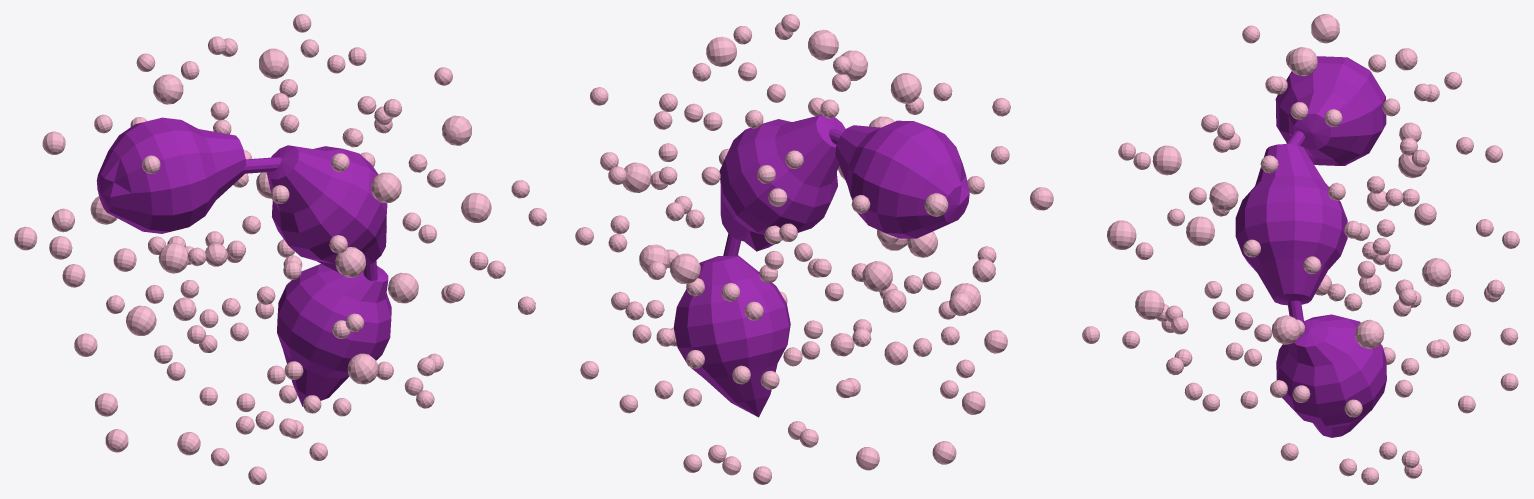
File: model-triangulated.obj
The picture shows the model from 3 angles, left to right: view 1: azimuth 30°, elevation 25°; view 2: azimuth 150°, elevation 25°; view 3: azimuth 270°, elevation 25°; orthographic projection. The views are drawn at different scales.
Parts seen in each view (by area): view 1: group1342573826, group309895919, group1013758366, group1750236143, group1095606899, group761726920, group1134961427, group443465300, group1076835853, group1972625439, group1989945592, group1333205387 (+1 smaller); view 2: group1342573826, group1013758366, group309895919, group1076835853, group1864739159, group733315958, group1989945592, group1575044809, group1972625439, group1333205387, group1628788373, group1095606899; view 3: group1013758366, group309895919, group1342573826, group761726920, group1750236143, group443465300, group1095606899, group1989945592, group1575044809, group1076835853, group1972625439, group1864739159 (+1 smaller).
Boxes of the visible parts, x1,y1,x2,y2 form: group1342573826: [96, 117, 246, 233]; group309895919: [277, 263, 391, 406]; group1013758366: [266, 145, 387, 273]; group1750236143: [347, 353, 378, 384]; group1095606899: [371, 172, 401, 203]; group761726920: [388, 272, 418, 303]; group1134961427: [126, 305, 156, 335]; group443465300: [335, 247, 365, 277]; group1076835853: [153, 74, 183, 104]; group1972625439: [461, 192, 491, 222]; group1989945592: [259, 48, 288, 78]; group1333205387: [158, 242, 188, 273]; group1342573826: [835, 120, 969, 238]; group1013758366: [719, 114, 845, 251]; group309895919: [673, 255, 790, 417]; group1076835853: [890, 73, 921, 103]; group1864739159: [670, 253, 700, 284]; group733315958: [862, 261, 892, 291]; group1989945592: [808, 29, 838, 60]; group1575044809: [706, 36, 736, 66]; group1972625439: [622, 162, 651, 192]; group1333205387: [907, 231, 937, 257]; group1628788373: [639, 244, 669, 273]; group1095606899: [840, 50, 867, 80]; group1013758366: [1235, 144, 1347, 305]; group309895919: [1276, 314, 1386, 437]; group1342573826: [1275, 56, 1386, 165]; group761726920: [1107, 220, 1136, 249]; group1750236143: [1135, 290, 1164, 319]; group443465300: [1186, 216, 1214, 246]; group1095606899: [1152, 145, 1181, 175]; group1989945592: [1288, 47, 1317, 76]; group1575044809: [1209, 182, 1238, 211]; group1076835853: [1311, 14, 1339, 43]; group1972625439: [1271, 315, 1300, 344]; group1864739159: [1422, 258, 1451, 287].
Bounding box in the file's own units: 0.8666 × 0.7527 × 0.729.
